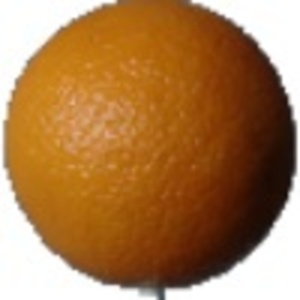laranja: (4, 3, 293, 289)
